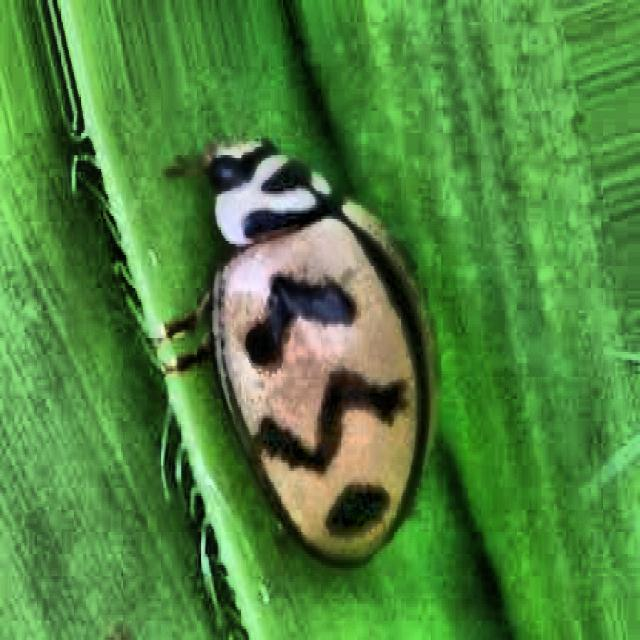Asian-Lady-beetle: (150, 102, 497, 589)
